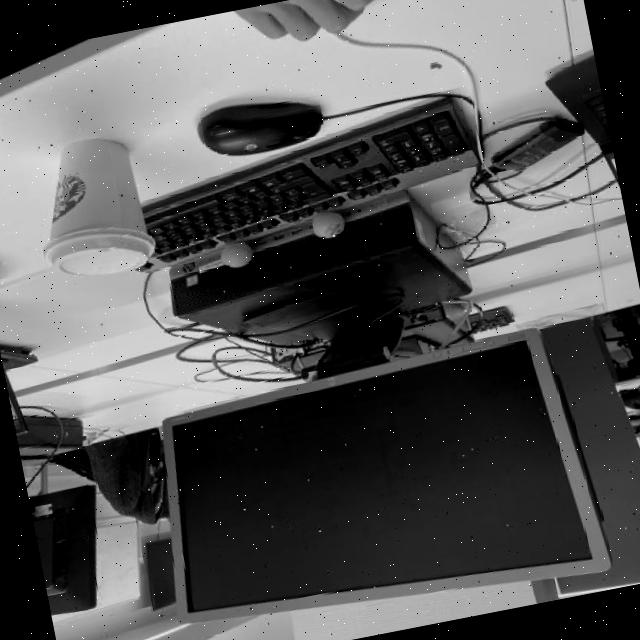ping-pong-ball: (210, 230, 264, 280), (306, 209, 348, 242)
